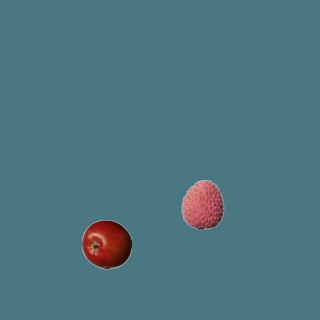Apple Braeburn: (81, 219, 131, 269)
Lychee: (177, 179, 227, 229)
